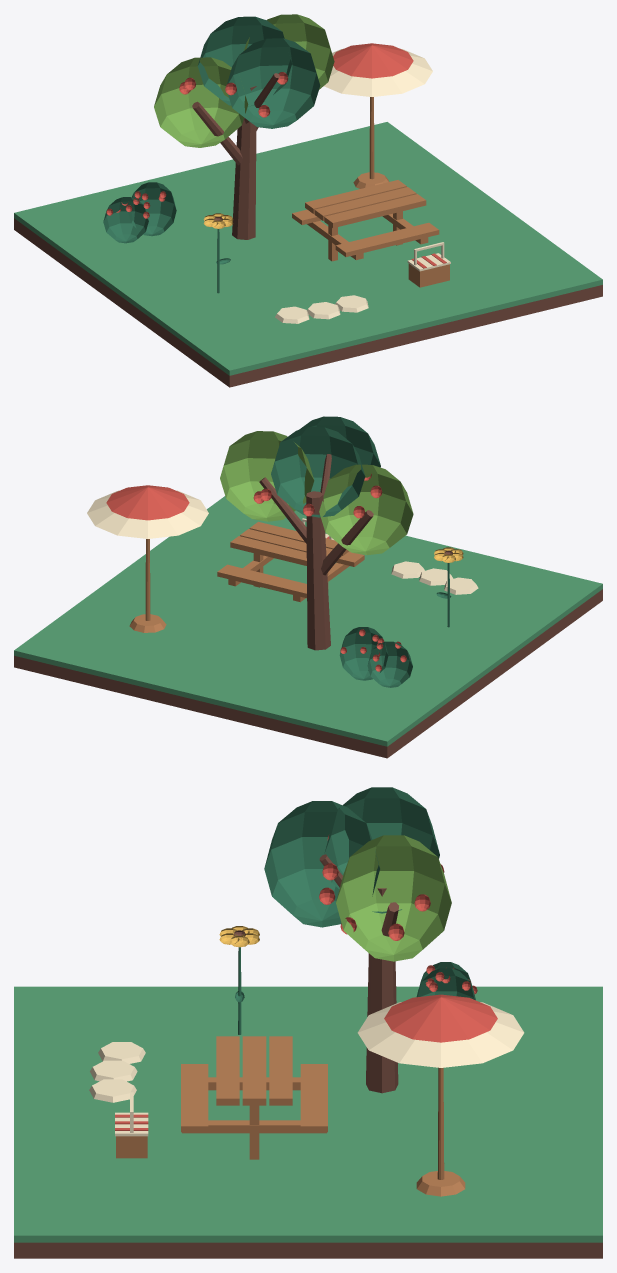
File: turning-seasons-summer-garden-scene-a3556037__2177.glb
The picture shows the model from 3 angles, top to bottom: view 1: azimuth 30°, elevation 25°; view 2: azimuth 150°, elevation 25°; view 3: azimuth 270°, elevation 25°; orthographic projection. The views are drawn at different scales.
Visible parts, largest first — view 1: 000-summer-ground-tile/1, 000-summer-ground-tile/0, 003-picnic-table/0, 001-summer-orchard-tree/4, 001-summer-orchard-tree/1, 001-summer-orchard-tree/0, 006-berry-bush/0, 001-summer-orchard-tree/2, 004-striped-parasol/1, 004-striped-parasol/2, 001-summer-orchard-tree/3, 007-stepping-stones/0 (+2 smaller); view 2: 000-summer-ground-tile/1, 000-summer-ground-tile/0, 001-summer-orchard-tree/1, 001-summer-orchard-tree/2, 001-summer-orchard-tree/0, 003-picnic-table/0, 001-summer-orchard-tree/3, 006-berry-bush/0, 004-striped-parasol/1, 004-striped-parasol/2, 001-summer-orchard-tree/4, 007-stepping-stones/0 (+1 smaller); view 3: 000-summer-ground-tile/1, 003-picnic-table/0, 001-summer-orchard-tree/3, 000-summer-ground-tile/0, 001-summer-orchard-tree/4, 004-striped-parasol/1, 001-summer-orchard-tree/2, 004-striped-parasol/2, 001-summer-orchard-tree/0, 007-stepping-stones/0, 006-berry-bush/0, 004-striped-parasol/3 (+4 smaller).
Boxes of the visible parts, box(x1,y1,x2,y2) form: 000-summer-ground-tile/1: box(14, 122, 602, 375); 000-summer-ground-tile/0: box(14, 218, 602, 387); 003-picnic-table/0: box(292, 180, 439, 261); 001-summer-orchard-tree/4: box(227, 38, 320, 128); 001-summer-orchard-tree/1: box(154, 57, 248, 147); 001-summer-orchard-tree/0: box(192, 73, 279, 239); 006-berry-bush/0: box(103, 182, 176, 243); 001-summer-orchard-tree/2: box(197, 16, 291, 106); 004-striped-parasol/1: box(324, 48, 432, 96); 004-striped-parasol/2: box(333, 43, 413, 78); 001-summer-orchard-tree/3: box(244, 14, 334, 89); 007-stepping-stones/0: box(275, 295, 368, 323); 000-summer-ground-tile/1: box(14, 496, 602, 746); 000-summer-ground-tile/0: box(14, 589, 602, 758); 001-summer-orchard-tree/1: box(319, 464, 413, 555); 001-summer-orchard-tree/2: box(271, 427, 365, 517); 001-summer-orchard-tree/0: box(259, 454, 373, 650); 003-picnic-table/0: box(217, 521, 364, 602); 001-summer-orchard-tree/3: box(220, 431, 314, 521); 006-berry-bush/0: box(339, 627, 412, 687); 004-striped-parasol/1: box(87, 490, 208, 538); 004-striped-parasol/2: box(106, 485, 189, 520); 001-summer-orchard-tree/4: box(299, 416, 380, 467); 007-stepping-stones/0: box(391, 561, 478, 594); 000-summer-ground-tile/1: box(14, 986, 602, 1242); 003-picnic-table/0: box(181, 1036, 327, 1159); 001-summer-orchard-tree/3: box(336, 835, 451, 961); 000-summer-ground-tile/0: box(14, 1242, 602, 1258); 001-summer-orchard-tree/4: box(264, 801, 379, 927); 004-striped-parasol/1: box(357, 1002, 524, 1067); 001-summer-orchard-tree/2: box(324, 787, 439, 913); 004-striped-parasol/2: box(384, 994, 497, 1042); 001-summer-orchard-tree/0: box(319, 854, 398, 1093); 007-stepping-stones/0: box(89, 1042, 145, 1102); 006-berry-bush/0: box(416, 962, 475, 1000); 004-striped-parasol/3: box(416, 1171, 465, 1196).
Bounding box in the file's own units: 6 × 3.57 × 6.
